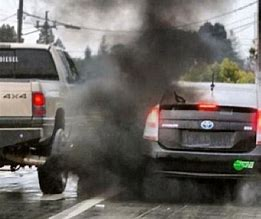smoke: (52, 70, 142, 191)
